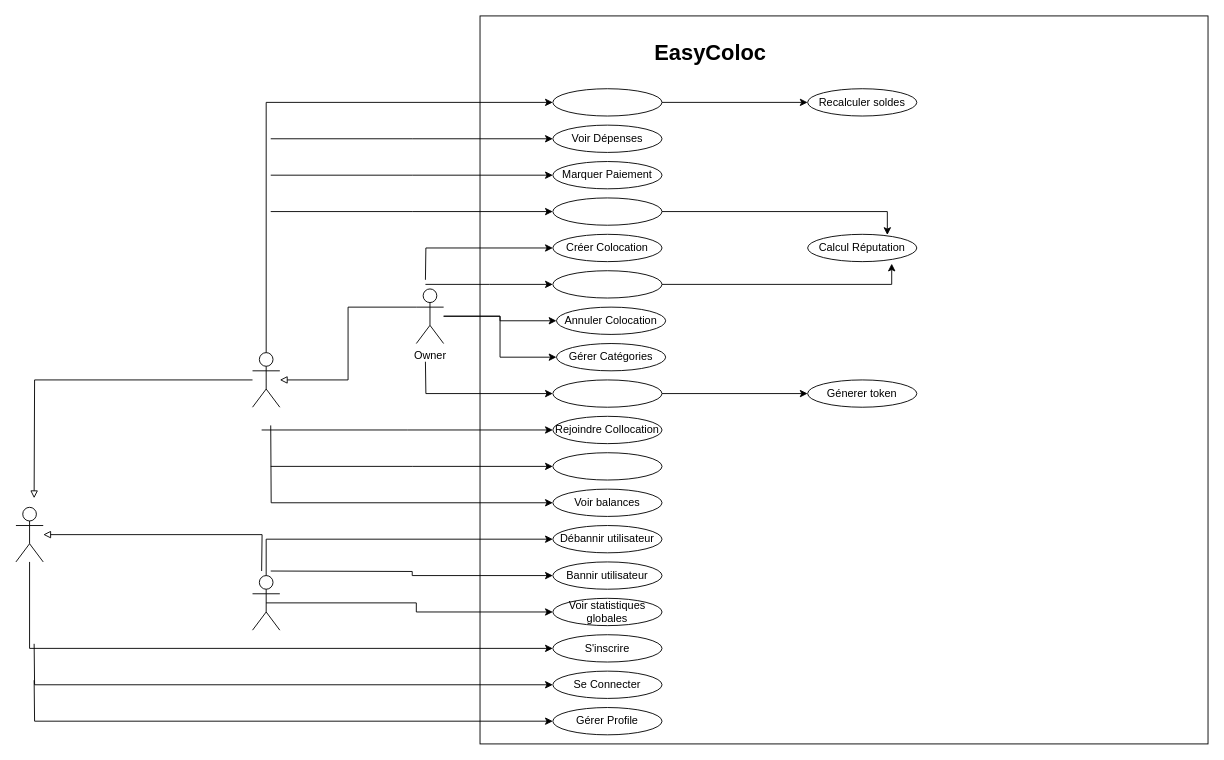
This 1224x760 diagram has some shape labels left out. The centre of each missing label's shape, as x and y in pixels:
"Admin" goes at point (266, 602).
"Ajouter Dépense" goes at point (607, 102).
"Inviter Membre" goes at point (607, 393).
"Membre" goes at point (266, 379).
"Quitter Collocation" goes at point (607, 211).
"Retirer Membre" goes at point (607, 284).
"User" goes at point (29, 534).
"Voir Membres" goes at point (607, 466).
